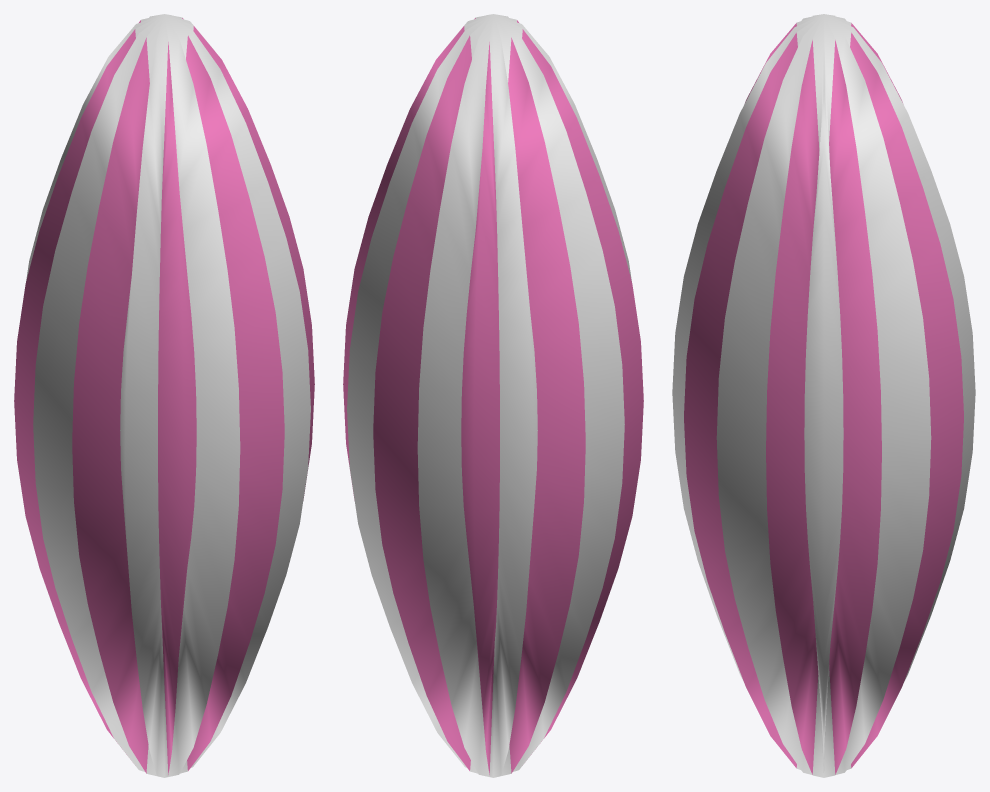
Rendered from seed3.glb.
The picture shows the model from 3 angles, left to right: view 1: azimuth 30°, elevation 25°; view 2: azimuth 150°, elevation 25°; view 3: azimuth 270°, elevation 25°; orthographic projection.
Parts seen in each view (by area): view 1: Seed; view 2: Seed; view 3: Seed.
Part boxes in pixels (left/top/right/bottom): Seed: left=14, top=14, right=314, bottom=777; Seed: left=343, top=14, right=643, bottom=777; Seed: left=672, top=14, right=975, bottom=777.
Bounding box in the file's own units: 2 × 5.56 × 2.
